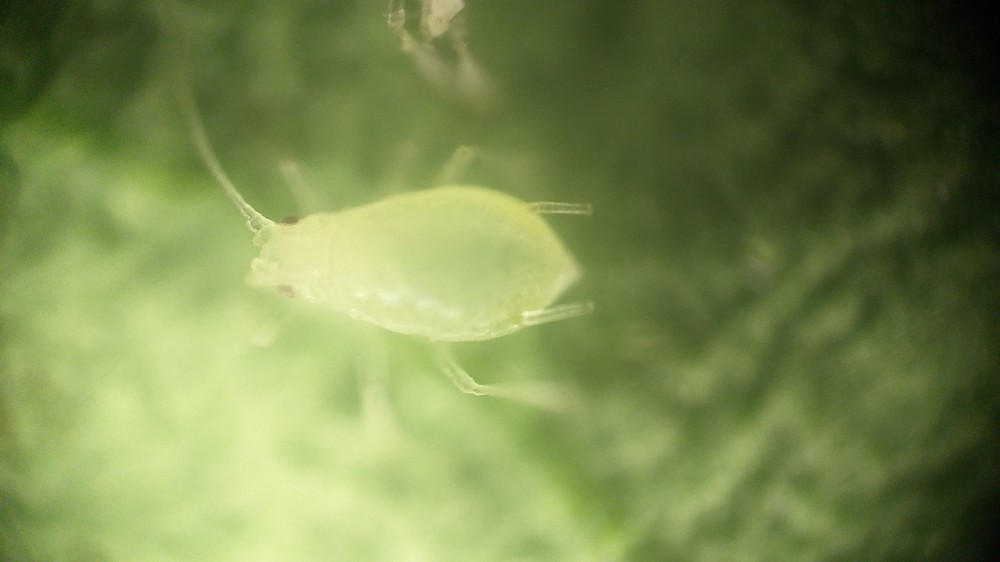Pulgon: (151, 82, 670, 462)
